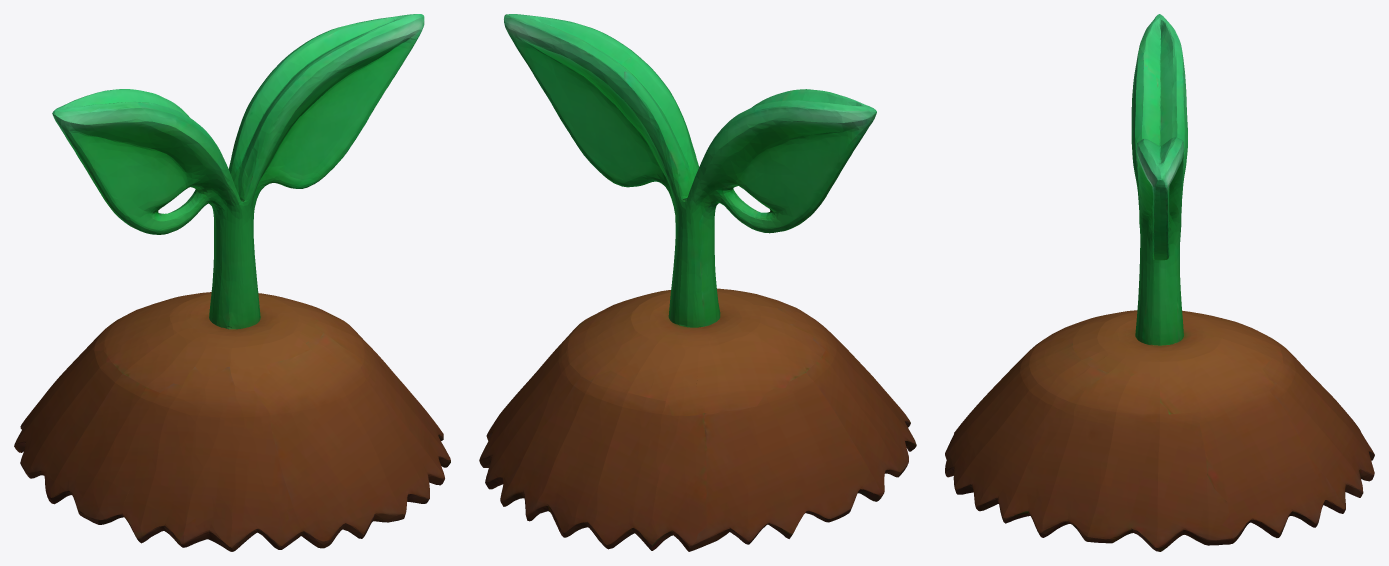
The model's file is familiarity_tree-1.glb.
3 views of the same model, side by side, from view 1: azimuth 30°, elevation 25°; view 2: azimuth 150°, elevation 25°; view 3: azimuth 270°, elevation 25° (orthographic). The views are drawn at different scales.
Visible parts, largest first — view 1: world; view 2: world; view 3: world.
Boxes of the visible parts, left/top/right/bottom form: world: left=14, top=14, right=450, bottom=551; world: left=479, top=14, right=916, bottom=551; world: left=945, top=14, right=1374, bottom=551.
Bounding box in the file's own units: 0.9503 × 0.9764 × 0.9927.
1 material, 1 textured.
